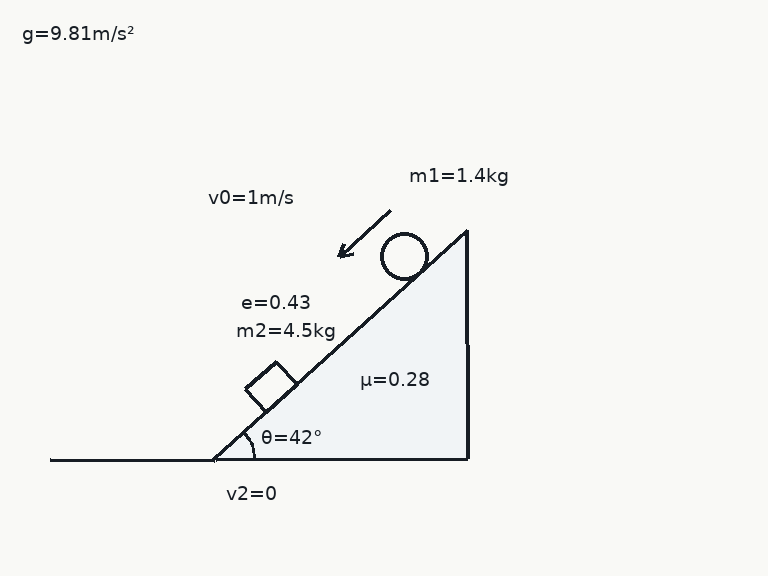ball: (378, 230, 430, 282)
block: (244, 359, 299, 414)
ramp: (212, 229, 469, 461)
